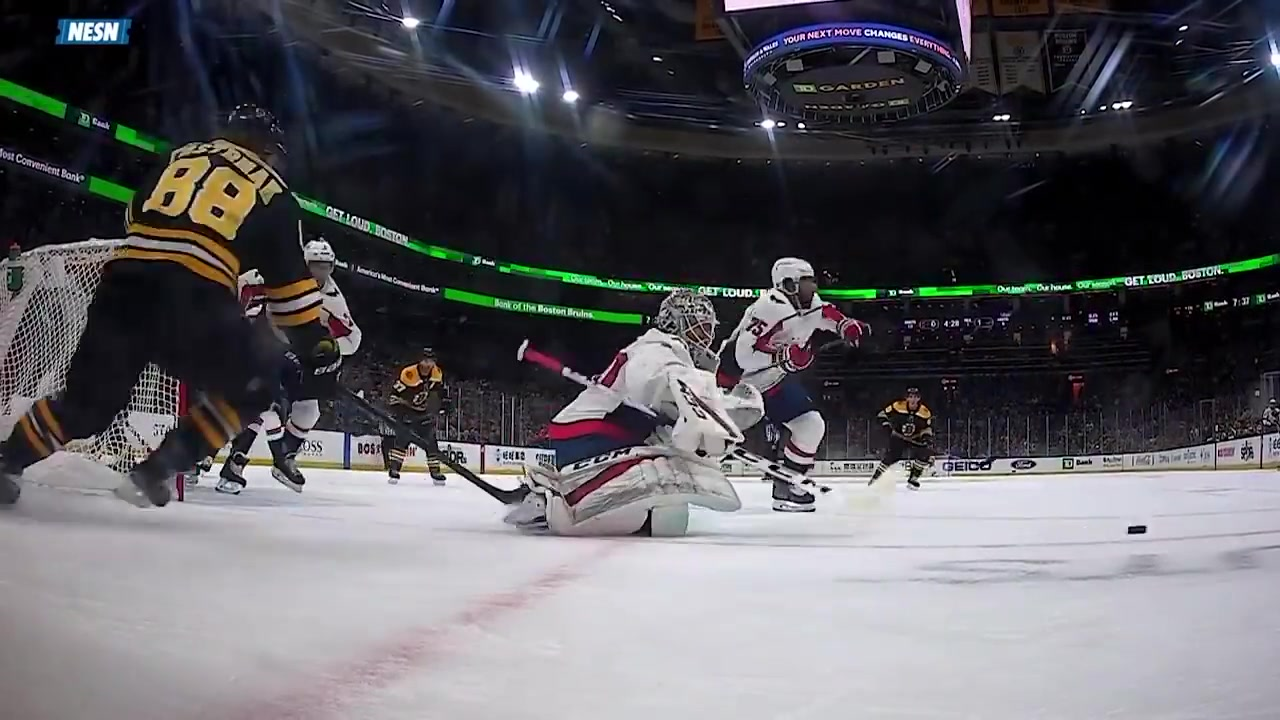Geico: (940, 453, 992, 478)
